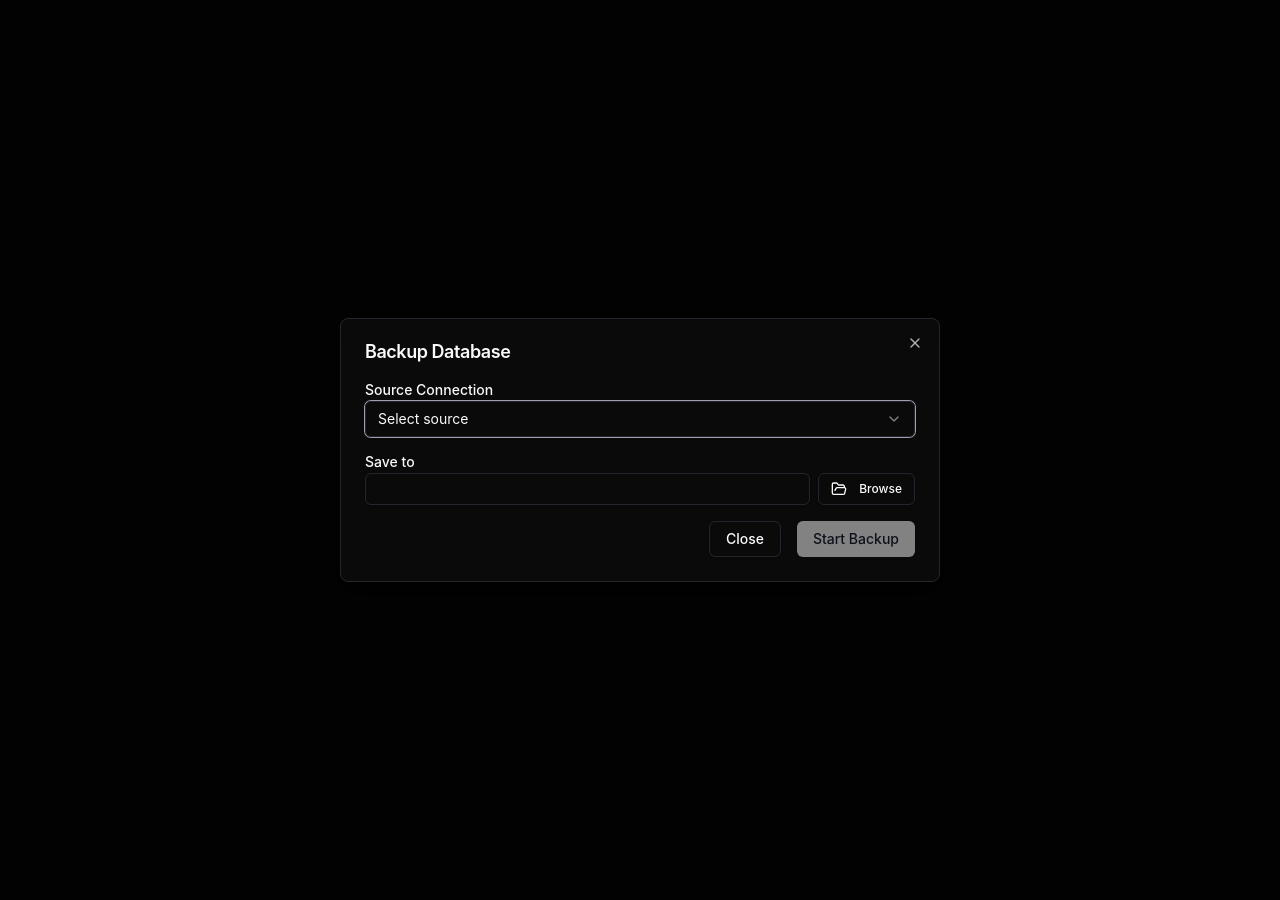
only shows connected connections in source dropdown
Click the dropdown "Select source" at (423, 418), box [365, 401, 915, 437]
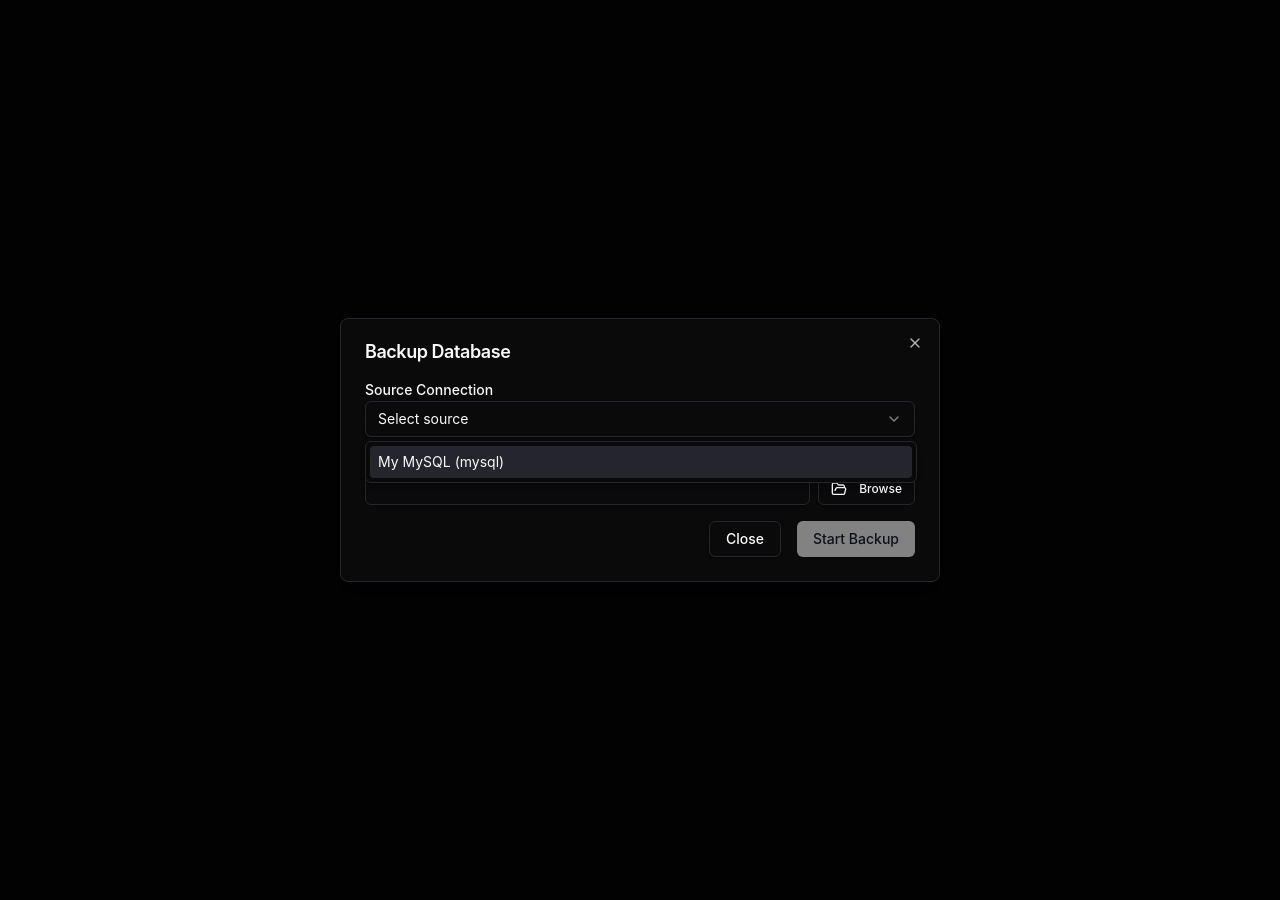
Now the text "My MySQL (mysql)" is shown, box [378, 452, 504, 472]
